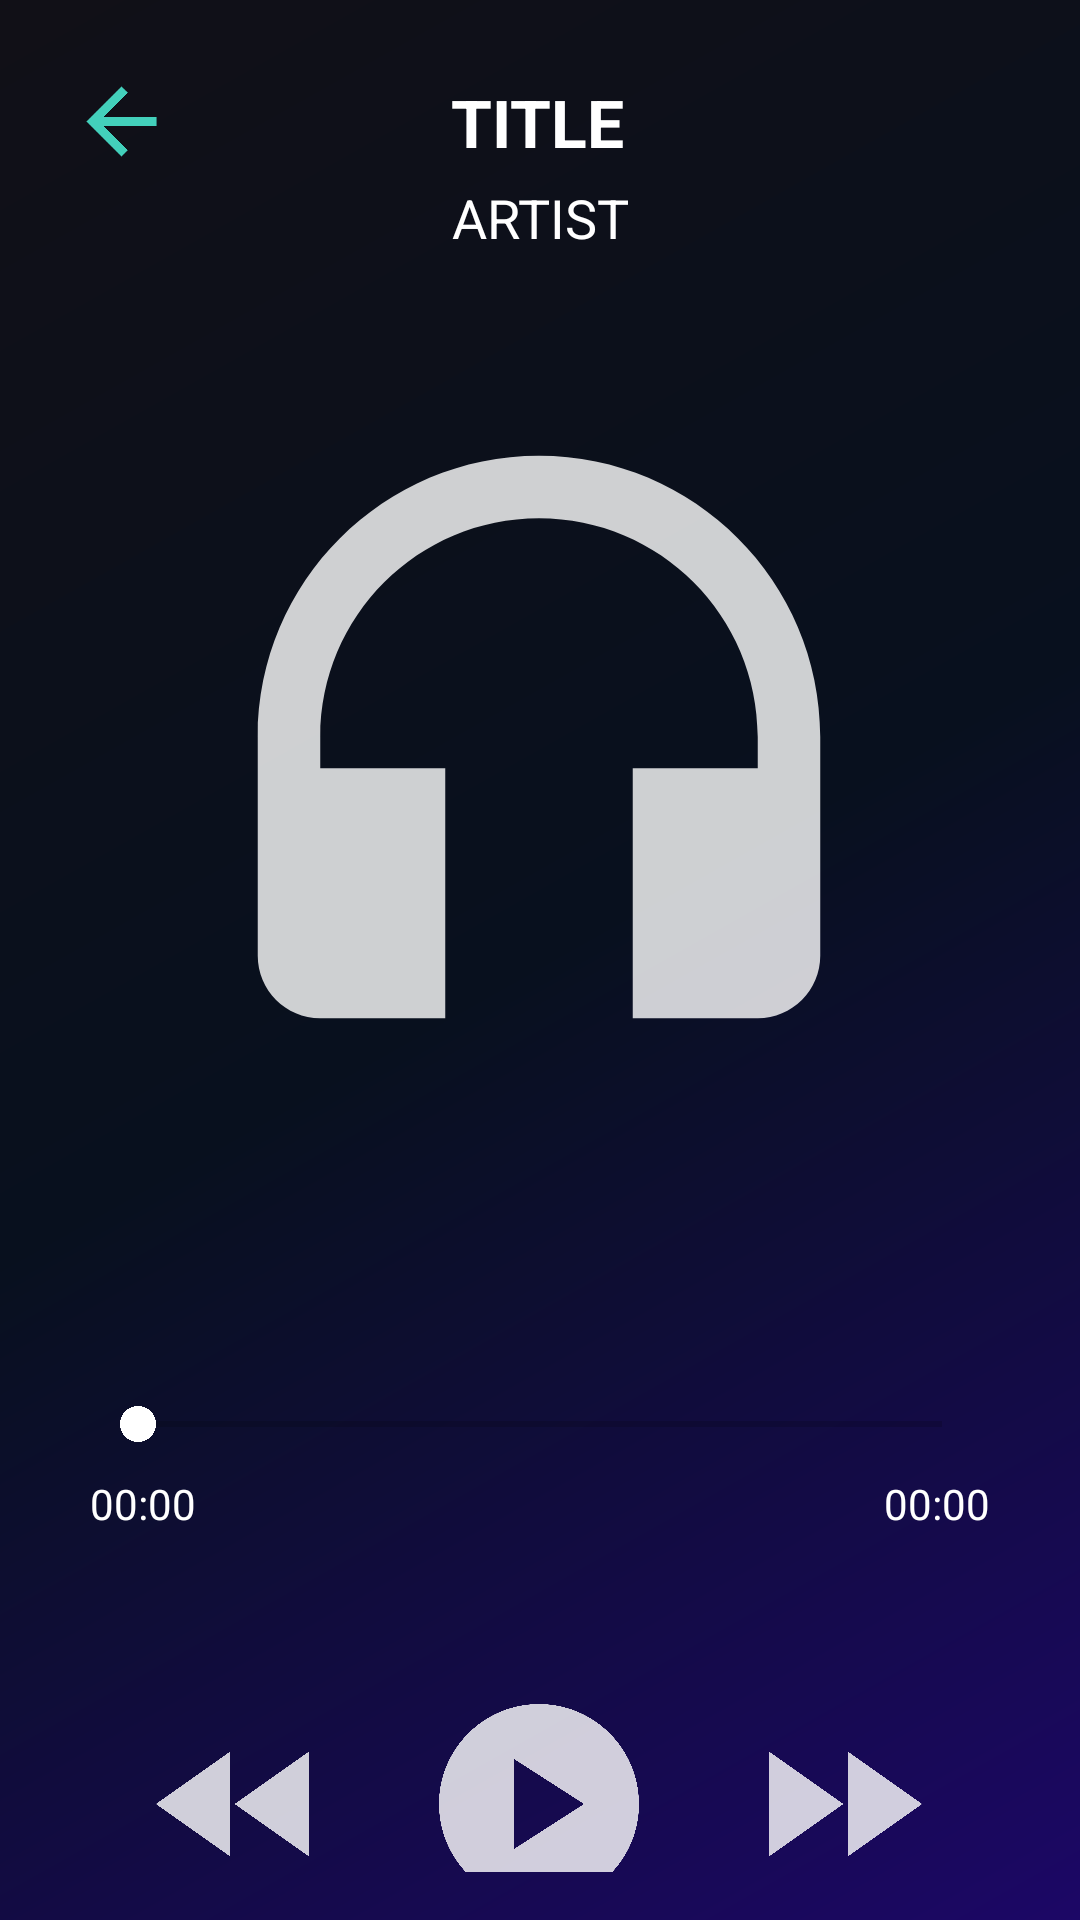

Locate icon controls on the screen. Image size 1080x1920, boxes as (x1,y1,x2,y2).
back: (86,86,157,157)
forward: (769,1752,922,1856)
play: (439,1704,639,1872)
rewind: (156,1752,309,1856)
